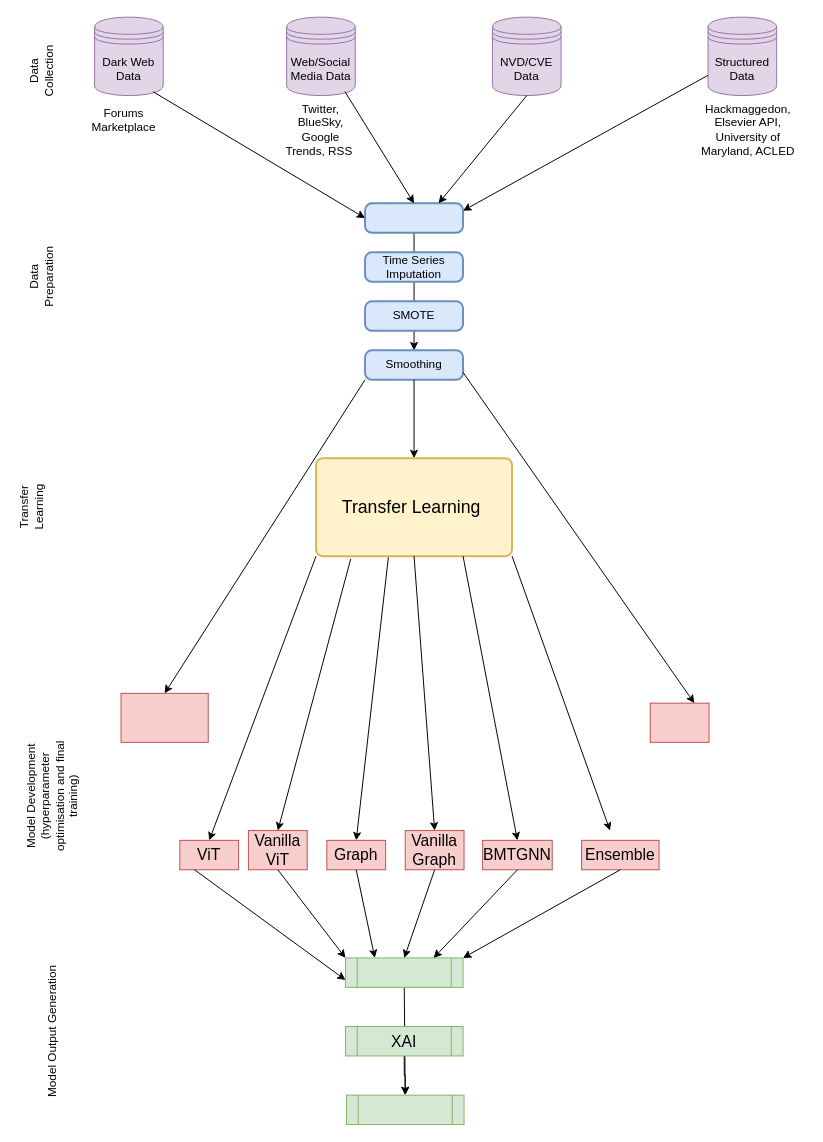
The diagram is 823 pixels wide and 1142 high, and some of its shapes have lost their labels. The shapes that lost their labels are listed below. From the top down, each one's box as (x1, y1, x2, y2) in pixels, then its label:
(364, 202, 464, 233): EDA
(120, 692, 208, 742): Baseline BMTGNN
(649, 702, 709, 742): Agentic LLM
(344, 957, 463, 987): Forecasting
(345, 1094, 464, 1125): Evaluation
